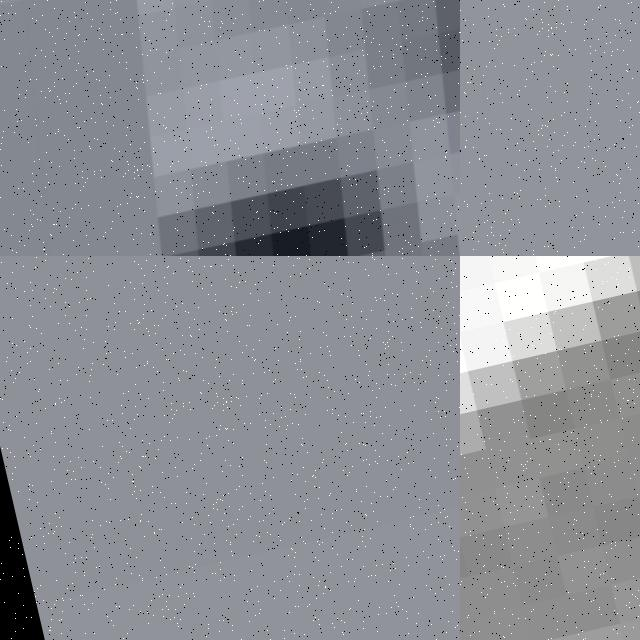drone: (0, 0, 460, 256)
